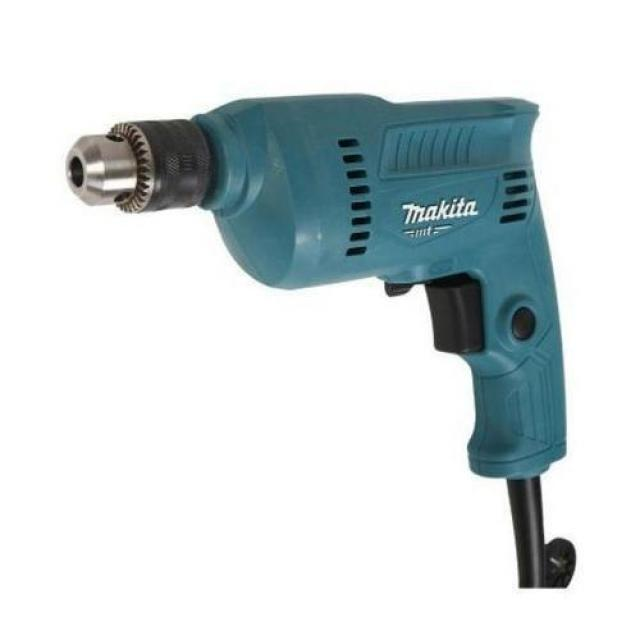drill: (63, 92, 578, 590)
